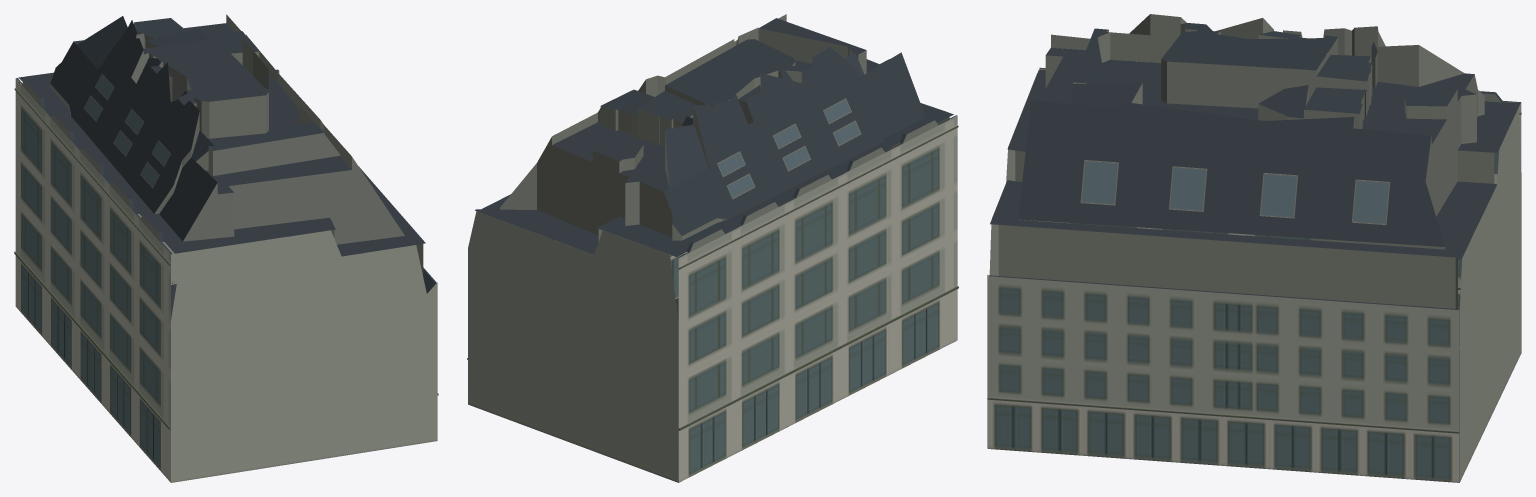
The picture shows the model from 3 angles, left to right: view 1: azimuth 30°, elevation 25°; view 2: azimuth 150°, elevation 25°; view 3: azimuth 270°, elevation 25°; orthographic projection. The views are drawn at different scales.
Parts seen in each view (by area): view 1: 0363100012254471; view 2: 0363100012254471; view 3: 0363100012254471.
Boxes of the visible parts, box(x1,y1,x2,y2) form: 0363100012254471: box(14, 14, 438, 482); 0363100012254471: box(467, 14, 958, 482); 0363100012254471: box(987, 14, 1521, 482).
Bounding box in the file's own units: 31.06 × 30.97 × 42.35.
Materials: 3 (1 with a texture image).
